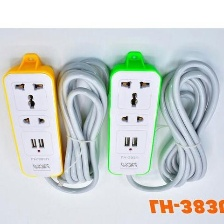three_eye_plug: (0, 55, 68, 183), (101, 50, 166, 181)
